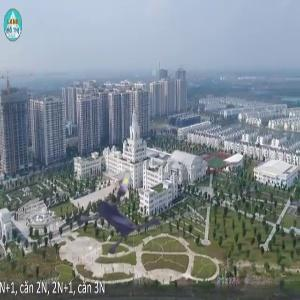drone: (65, 152, 183, 270)
